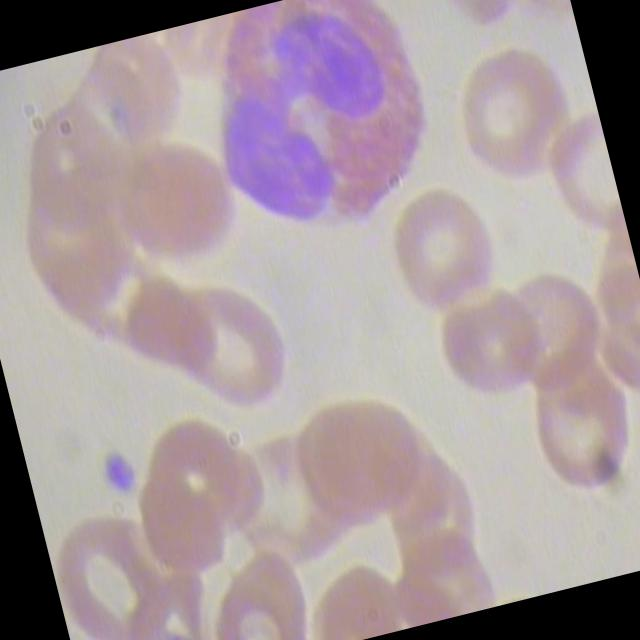Platelets: (90, 440, 148, 508)
RBC: (100, 126, 252, 290), (283, 382, 435, 545), (158, 270, 298, 429), (374, 175, 514, 334), (442, 37, 582, 196), (510, 350, 640, 509), (43, 507, 184, 640), (424, 280, 552, 416), (194, 539, 321, 640)
WBC: (183, 0, 461, 268)
